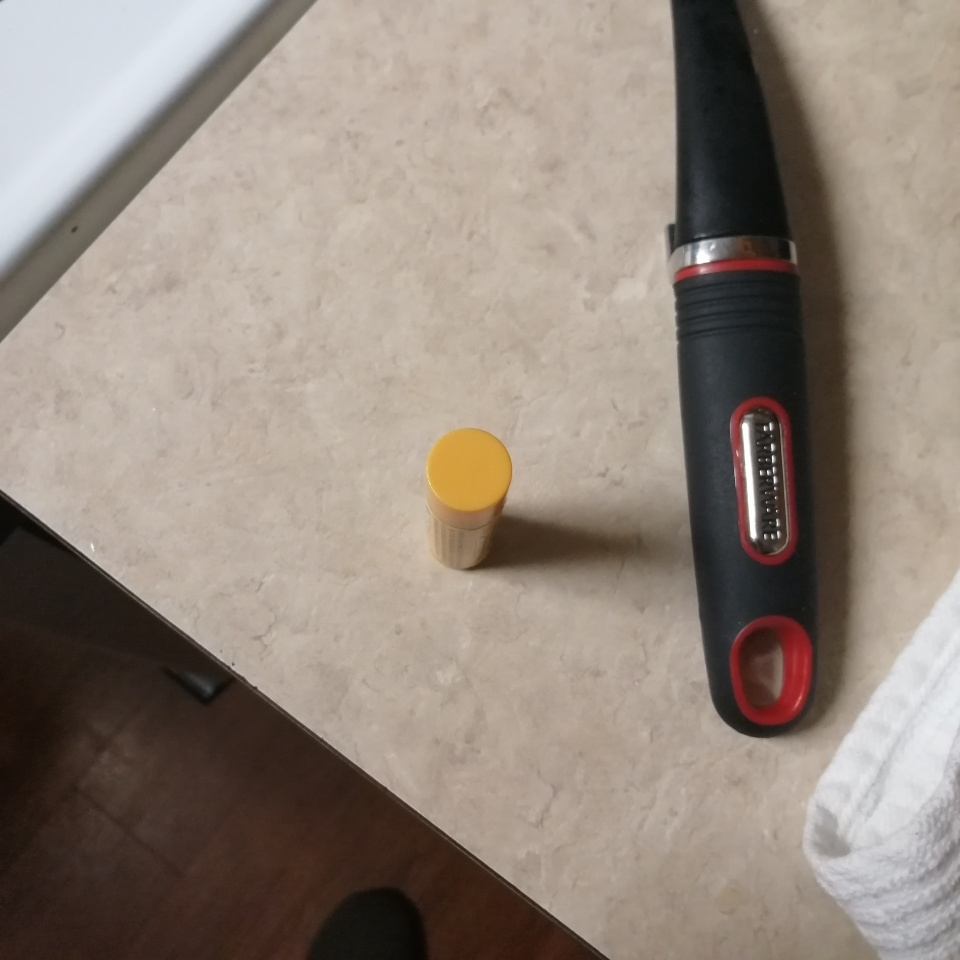chapstick: (422, 426, 513, 574)
